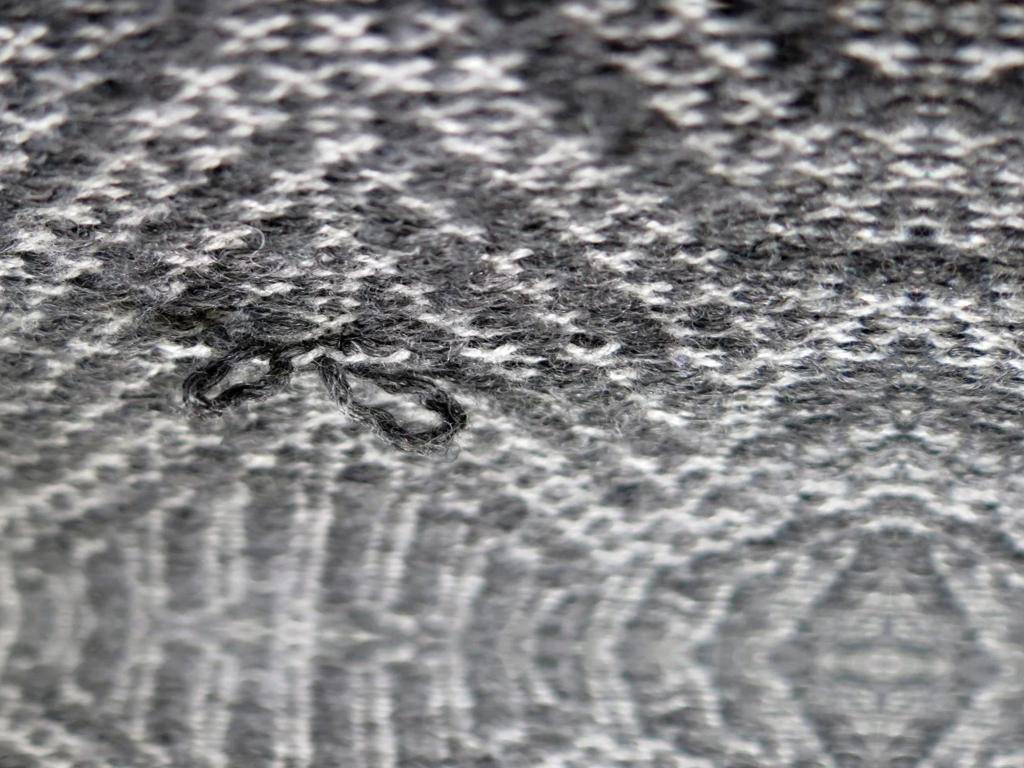snag: (316, 346, 484, 461), (175, 336, 307, 434)
